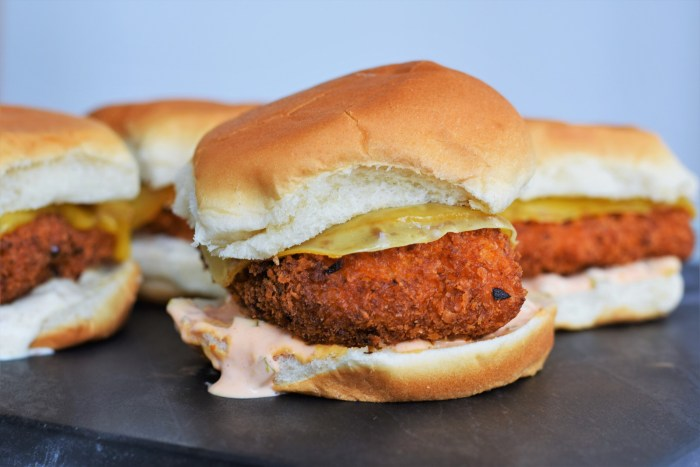sandwich: (177, 56, 563, 413)
